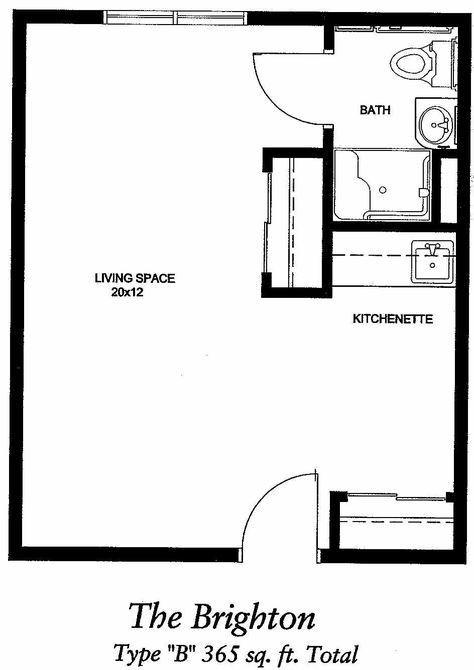door: (239, 465, 324, 569), (249, 47, 338, 130)
room: (4, 5, 474, 571)
wall: (450, 16, 474, 565), (10, 6, 24, 559), (243, 4, 474, 33), (24, 540, 243, 567), (320, 544, 468, 567), (320, 128, 336, 297), (262, 269, 322, 303), (262, 143, 321, 177), (17, 7, 107, 27), (326, 491, 345, 550)
window: (106, 3, 246, 31), (351, 485, 452, 511), (261, 174, 280, 269)
